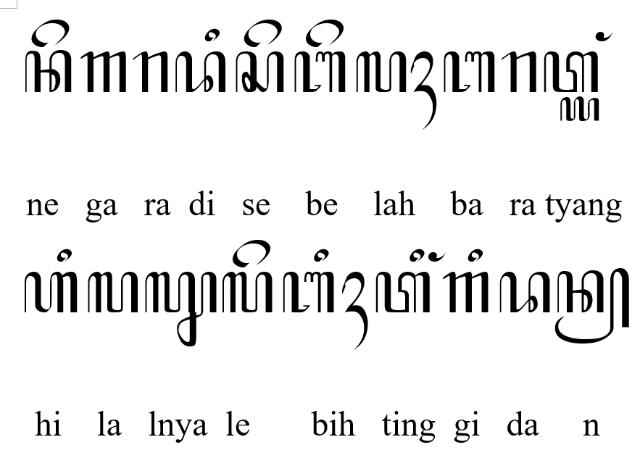-n: (554, 267, 630, 345)
_h1: (410, 50, 438, 132), (342, 271, 368, 351)
b: (442, 50, 496, 94), (294, 50, 346, 94), (282, 272, 336, 314)
d: (174, 50, 226, 94), (500, 270, 550, 314)
e: (242, 18, 282, 48), (232, 238, 270, 268), (30, 19, 70, 47), (304, 19, 344, 47)
g: (442, 272, 490, 314), (80, 51, 126, 93)
h: (23, 270, 78, 314)
i: (312, 247, 330, 263), (204, 27, 220, 43), (56, 248, 72, 262), (467, 248, 483, 262), (410, 248, 424, 262)
l: (220, 270, 274, 314), (356, 50, 406, 92), (88, 271, 138, 313)
lny: (144, 272, 218, 346)
n: (24, 50, 72, 94)
ng: (594, 30, 614, 42), (428, 252, 446, 263)
r: (132, 51, 168, 93), (501, 51, 537, 93)
s: (234, 51, 284, 93)
t: (375, 270, 431, 314), (542, 51, 600, 93)
y: (560, 96, 600, 122)
